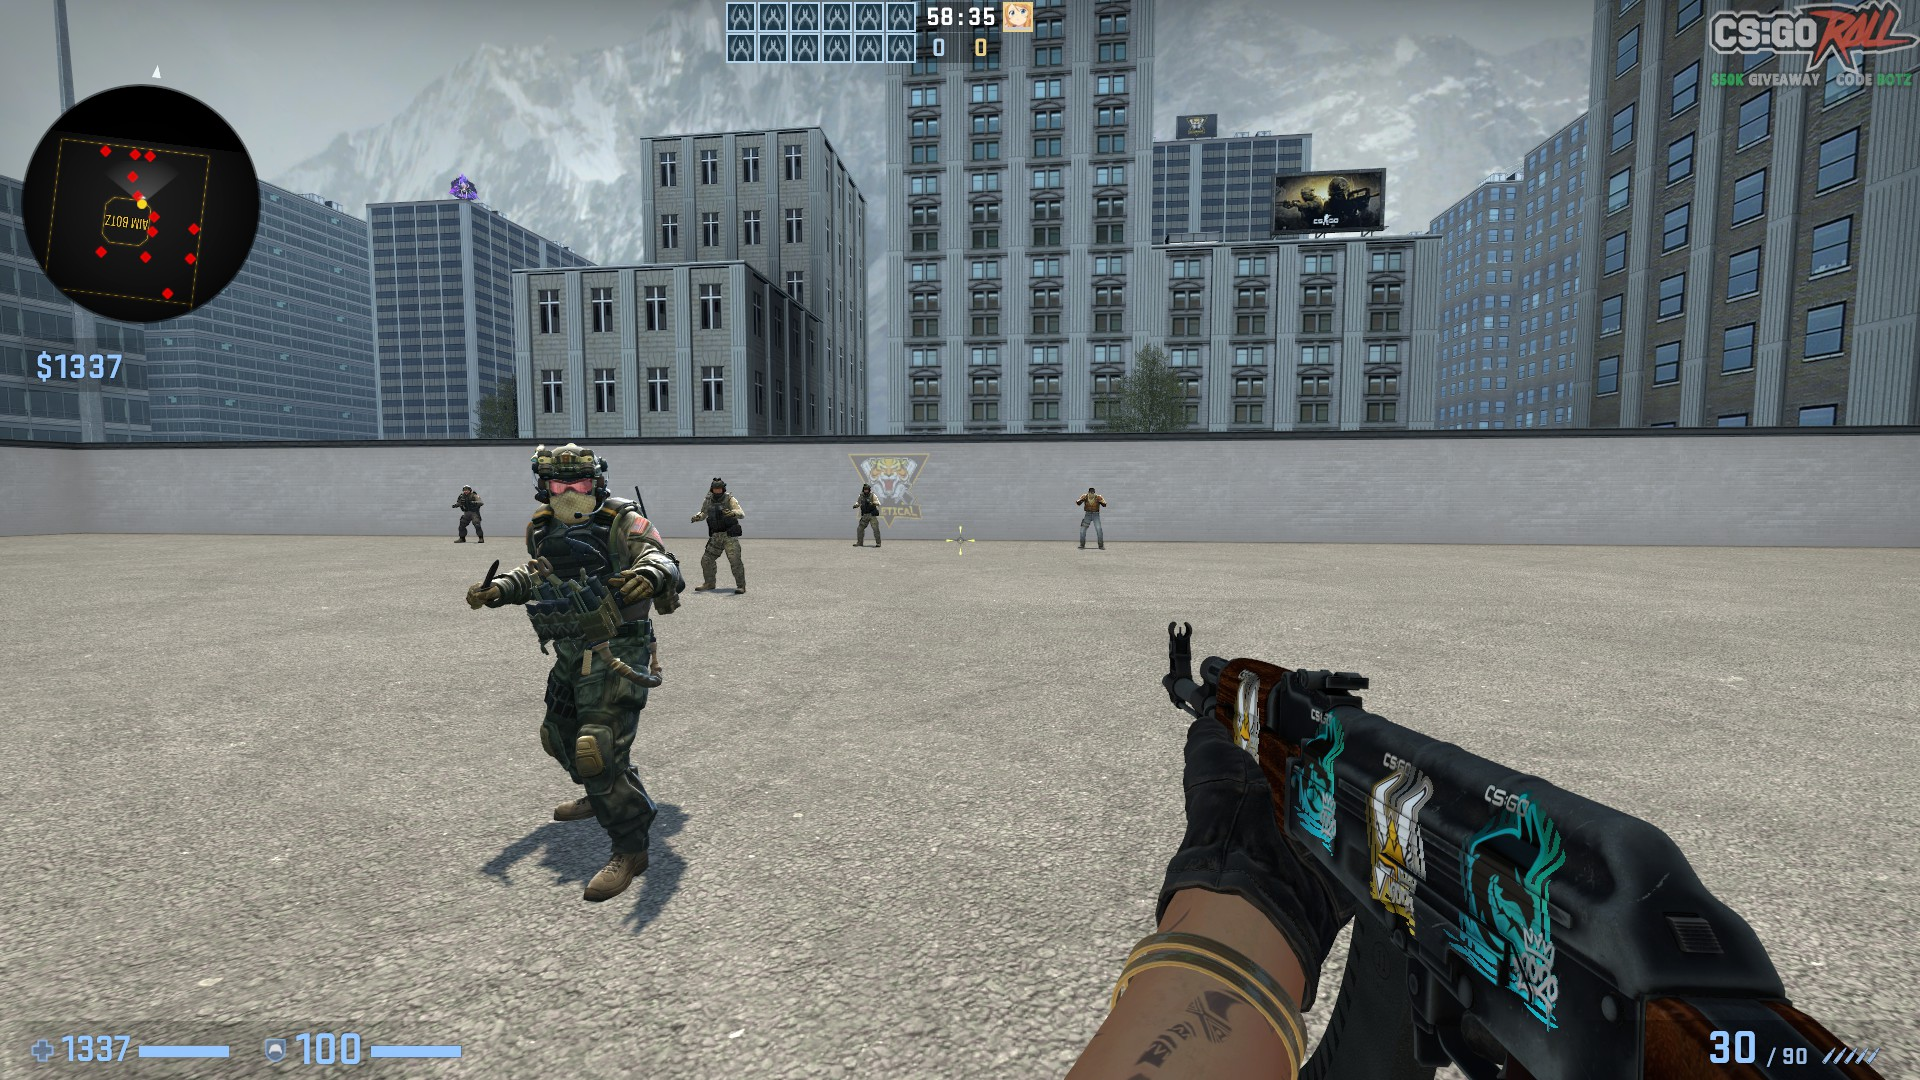head: (529, 444, 608, 526), (707, 475, 727, 500), (861, 482, 872, 495), (1086, 486, 1096, 497), (462, 483, 470, 494)
